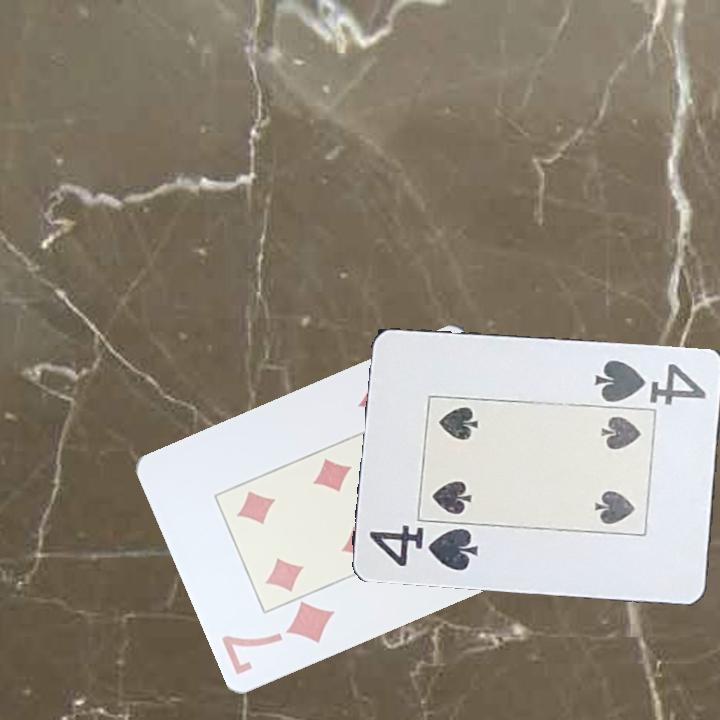4s: (366, 520, 484, 573), (591, 356, 710, 408)
7d: (218, 598, 339, 677)
